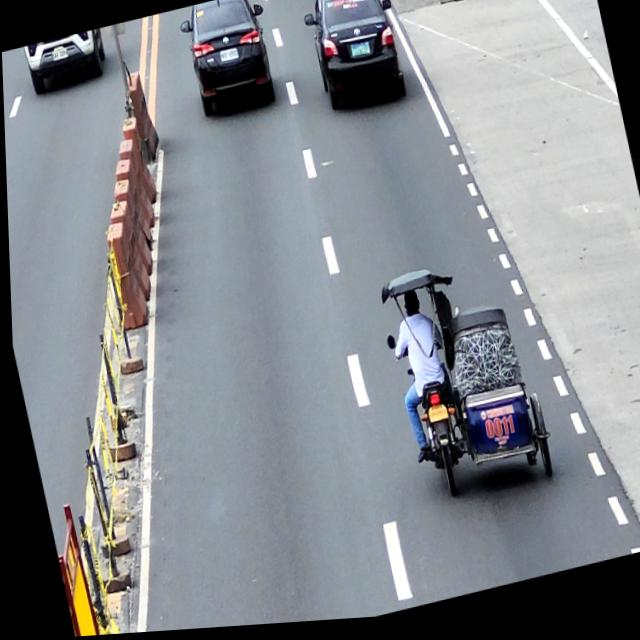Car: (298, 0, 411, 120), (176, 0, 282, 123), (22, 29, 109, 94)
License-Plate: (423, 407, 446, 427), (217, 49, 239, 66), (348, 46, 370, 62), (49, 47, 69, 62)
Tricycle: (372, 252, 555, 517)
